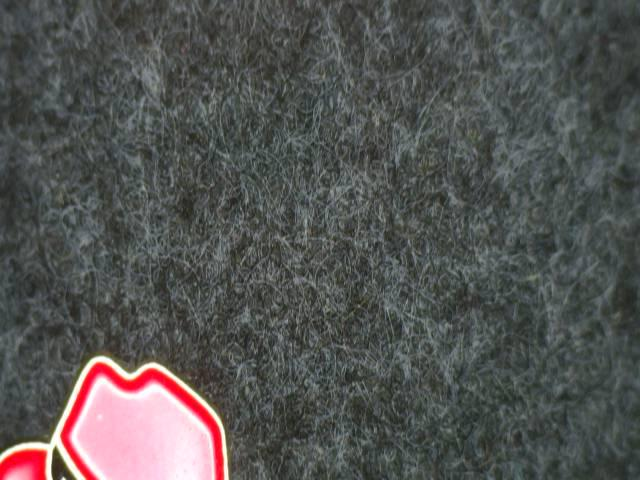Red-Hat: (0, 334, 258, 480)
